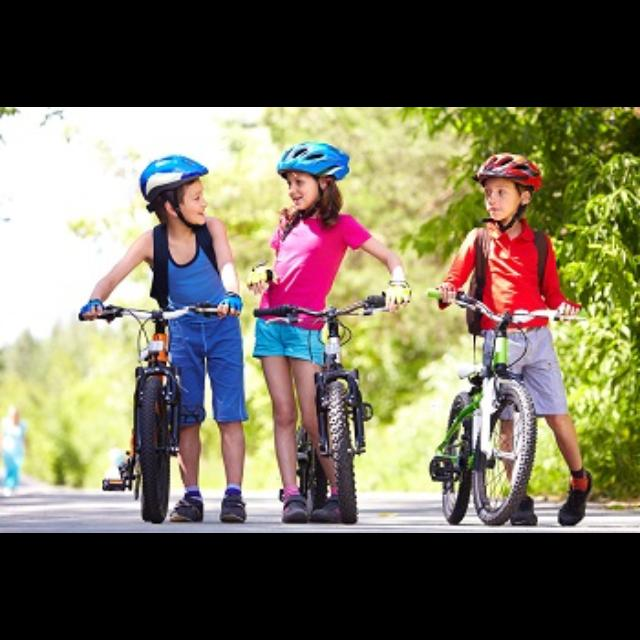With Helmet: (122, 151, 222, 235), (468, 147, 542, 233), (272, 133, 352, 210)
